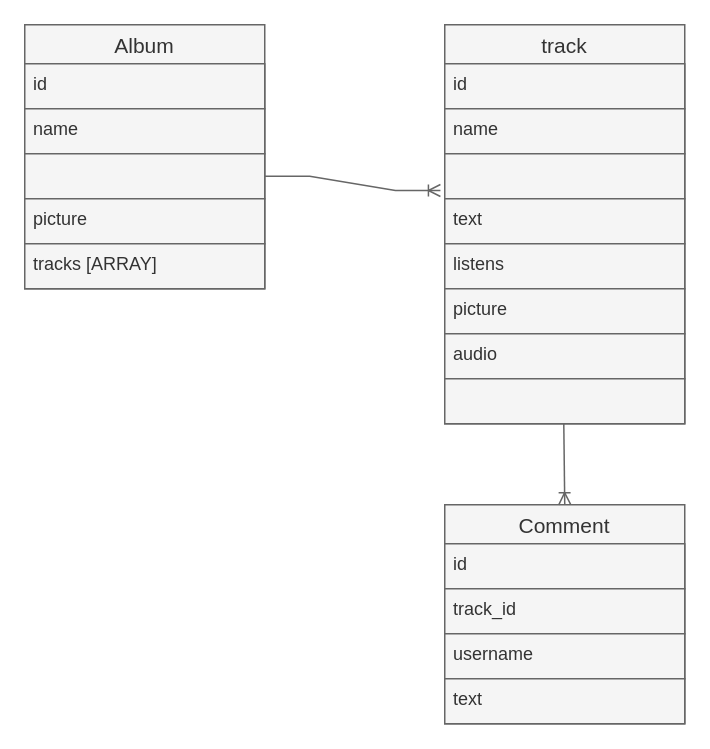
This 710x749 diagram has some shape labels left out. The shapes that lost their labels are listed below. From the top down, each one's centre as x and y in pixels, then its label:
the point at 144,175: author
the point at 564,175: artist
the point at 564,400: comments [ARRAY]
